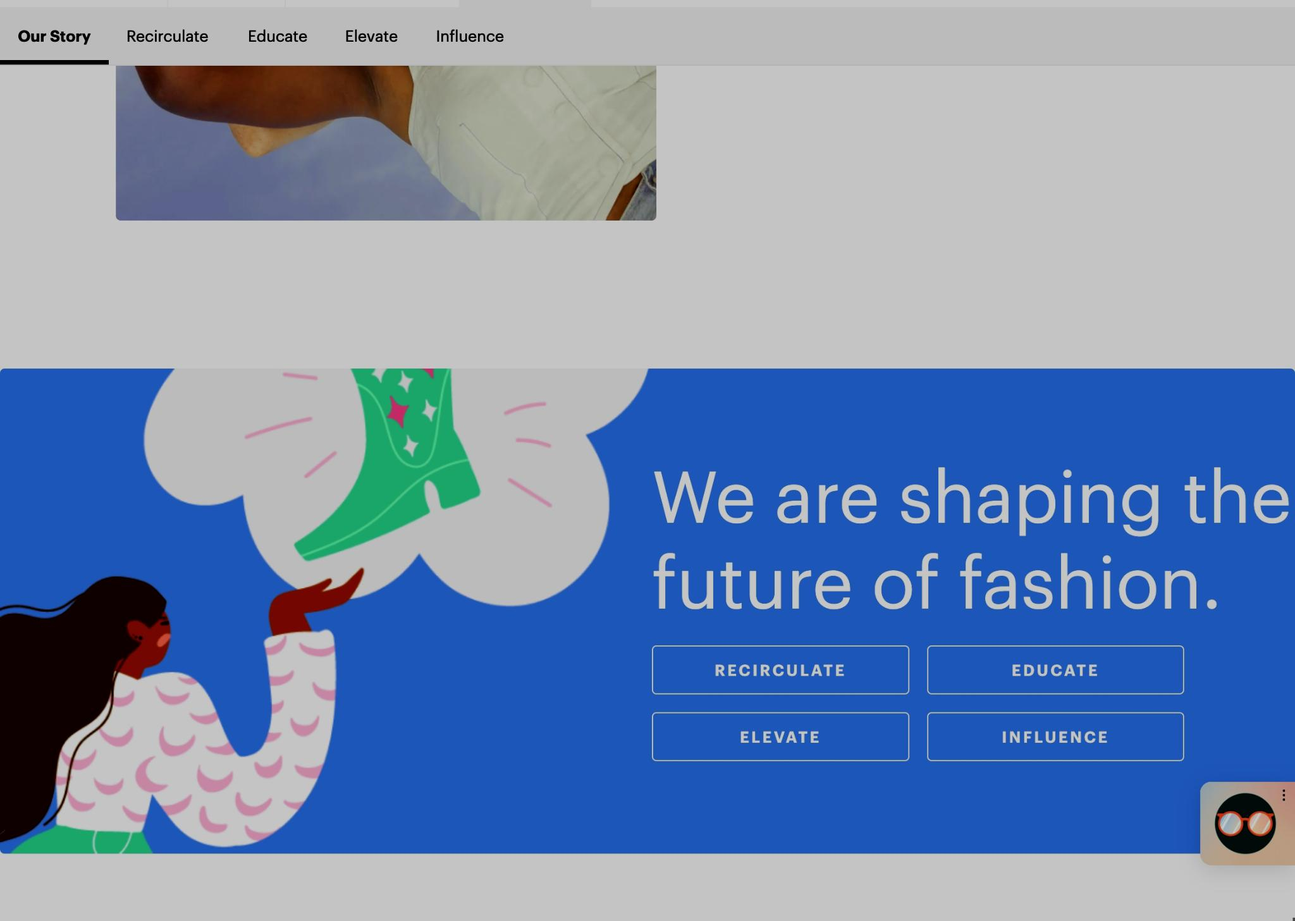webelement: (0, 368, 651, 852), (975, 91, 1229, 345), (486, 415, 807, 506), (1080, 150, 1290, 223), (872, 150, 1080, 223), (651, 645, 908, 694), (926, 645, 1183, 694), (651, 712, 908, 761), (926, 712, 1183, 761), (915, 9, 1018, 112), (1054, 38, 1246, 89), (693, 10, 879, 59), (107, 6, 225, 64), (0, 6, 107, 64), (417, 6, 520, 64), (229, 6, 323, 64), (327, 6, 414, 64), (64, 91, 231, 121), (723, 431, 881, 461), (64, 398, 217, 428), (64, 330, 217, 359), (723, 193, 844, 223), (64, 126, 174, 156), (724, 261, 828, 290), (64, 297, 167, 326), (322, 330, 425, 359), (723, 330, 817, 359), (64, 227, 154, 257), (64, 262, 149, 292), (64, 364, 146, 394), (724, 227, 801, 257), (907, 242, 1005, 265), (907, 337, 1005, 360), (723, 125, 797, 155), (64, 160, 140, 189), (724, 160, 799, 189), (322, 125, 390, 155), (322, 363, 389, 393), (322, 296, 381, 325), (322, 261, 378, 290), (907, 406, 972, 429), (724, 296, 771, 325), (723, 398, 768, 428), (907, 305, 963, 328), (64, 194, 107, 223), (322, 227, 362, 257), (322, 160, 363, 189), (907, 273, 957, 296), (322, 193, 355, 223), (523, 125, 556, 155), (523, 160, 557, 189), (723, 363, 755, 393), (773, 434, 788, 449)
